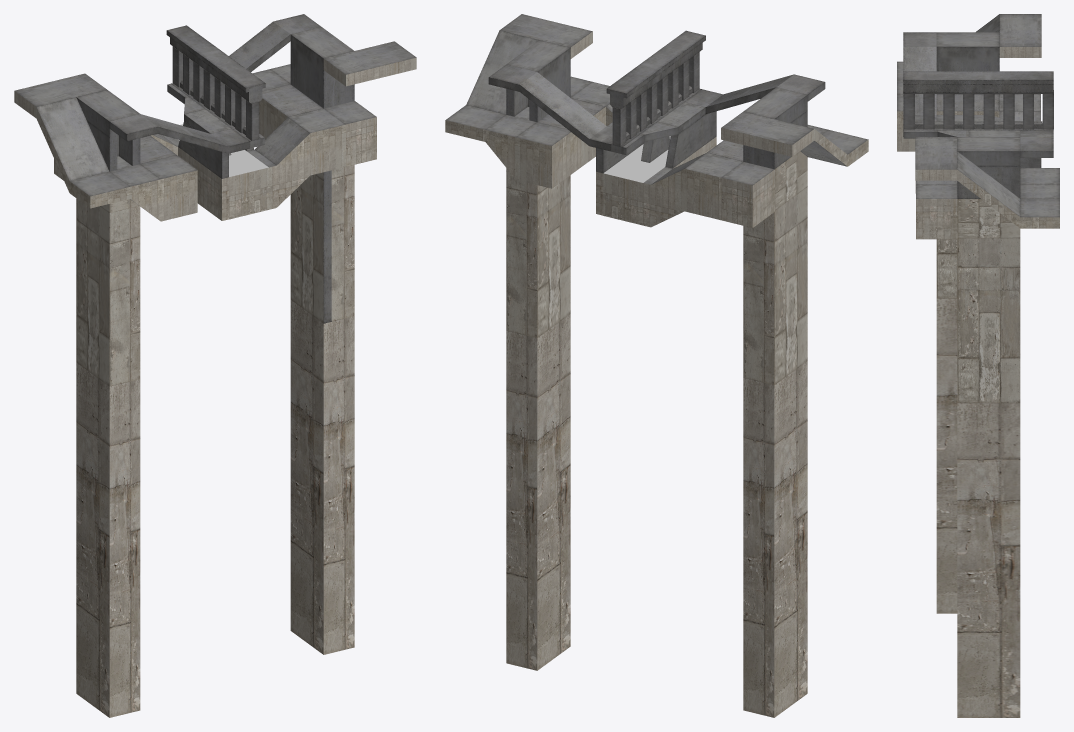
File: SM_Ministry00_Block00.fbx
3 renders of one model, left to right at view 1: azimuth 30°, elevation 25°; view 2: azimuth 150°, elevation 25°; view 3: azimuth 270°, elevation 25°, orthographic. The views are drawn at different scales.
Parts seen in each view (by area): view 1: SM_Ministry00_Block00; view 2: SM_Ministry00_Block00; view 3: SM_Ministry00_Block00.
Boxes of the visible parts, x1,y1,x2,y2 form: SM_Ministry00_Block00: (14,14,416,717); SM_Ministry00_Block00: (445,14,868,717); SM_Ministry00_Block00: (897,14,1059,717).
Bounding box in the file's own units: 3532 × 6167 × 1560.
